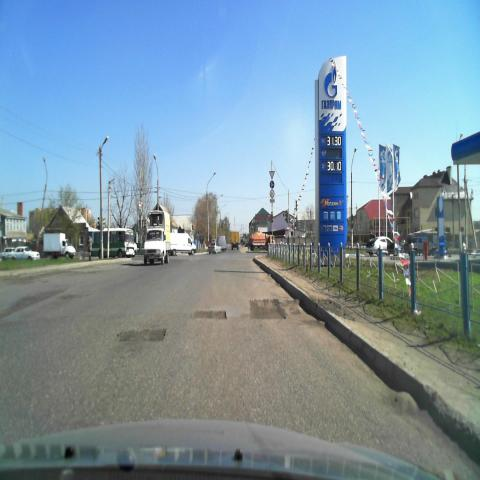2_4: (269, 170, 276, 179)
3_11: (269, 189, 275, 197)
4_1_4: (269, 180, 275, 188)
